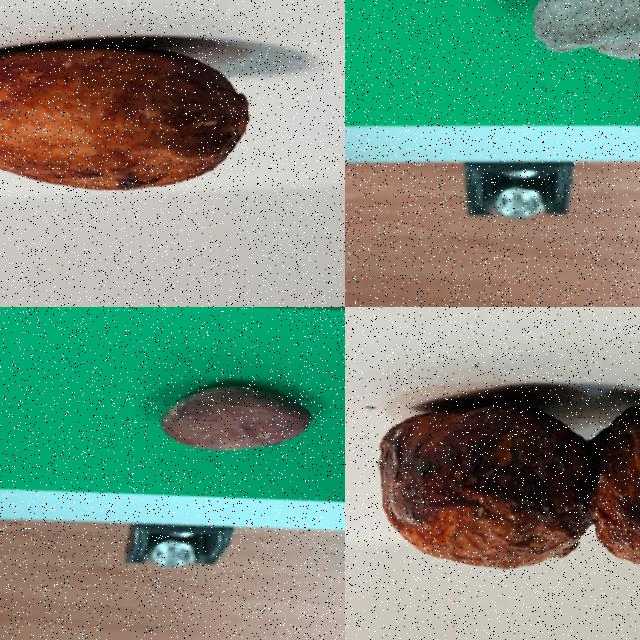Agglomerated_cocoabeans: (345, 333, 639, 631), (434, 0, 639, 125)
Fine_cocoabeans: (0, 0, 340, 244), (57, 341, 344, 510)
